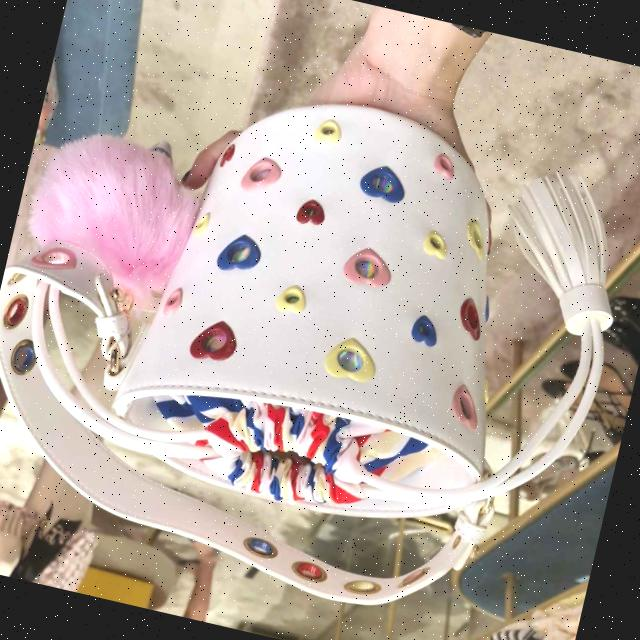handbag: (37, 47, 612, 562)
